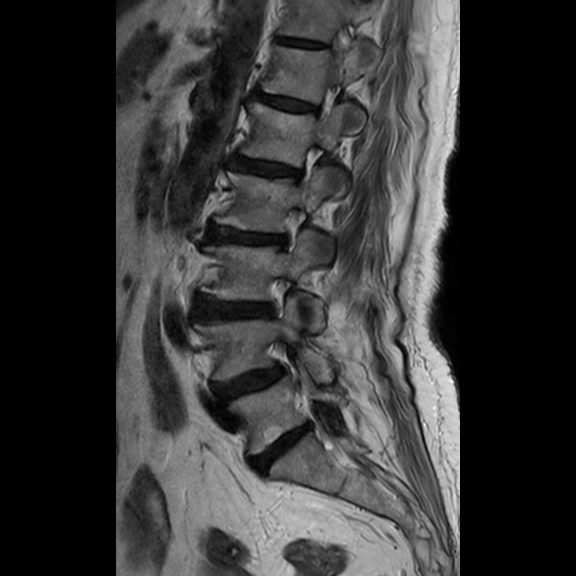LFS0: (258, 264, 302, 329), (267, 202, 312, 257), (287, 138, 331, 193)
